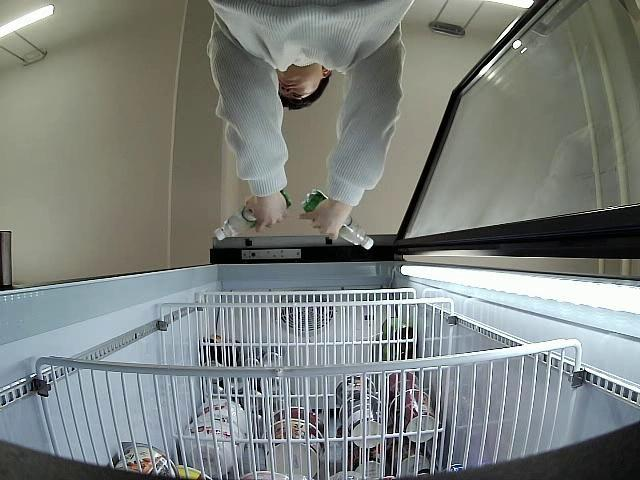18_trevi: (302, 188, 374, 252), (214, 187, 292, 240)
